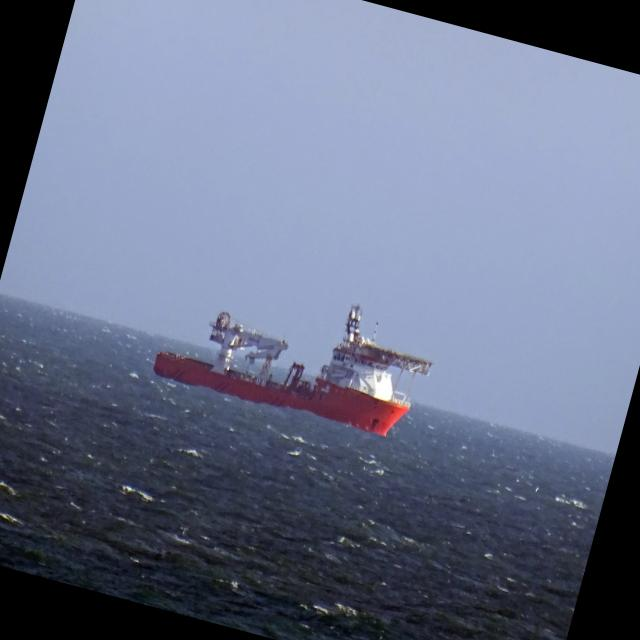Offshore: (153, 304, 431, 435)
